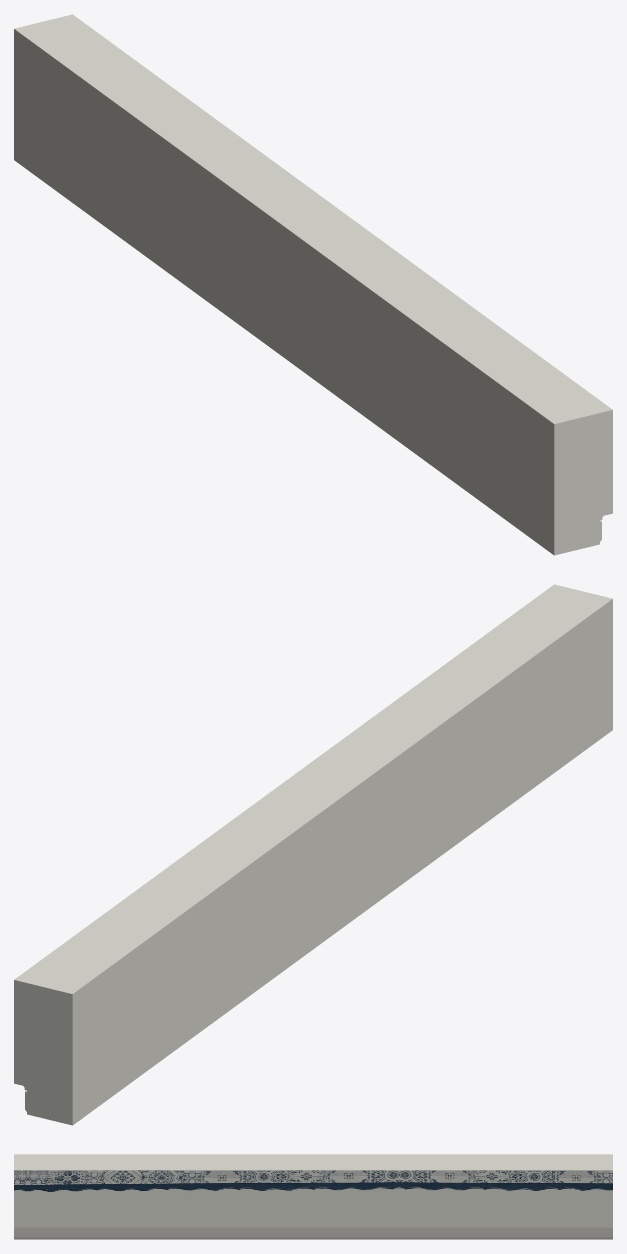
3 renders of one model, top to bottom at view 1: azimuth 30°, elevation 25°; view 2: azimuth 150°, elevation 25°; view 3: azimuth 270°, elevation 25°, orthographic. The views are drawn at different scales.
Visible parts, largest first — view 1: Bar glazing white head and painted brick above; view 2: Bar glazing white head and painted brick above; view 3: Bar glazing white head and painted brick above.
Boxes of the visible parts, x1,y1,x2,y2 form: Bar glazing white head and painted brick above: [14, 14, 612, 555]; Bar glazing white head and painted brick above: [14, 584, 612, 1125]; Bar glazing white head and painted brick above: [14, 1154, 612, 1239].
Bounding box in the file's own units: 0.16 × 0.3421 × 2.55.
Materials: 4 (1 with a texture image).
